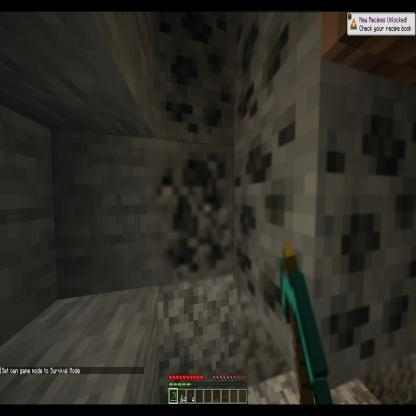coal ore: (235, 58, 416, 389), (234, 0, 326, 142), (148, 144, 233, 286), (153, 16, 234, 141)
